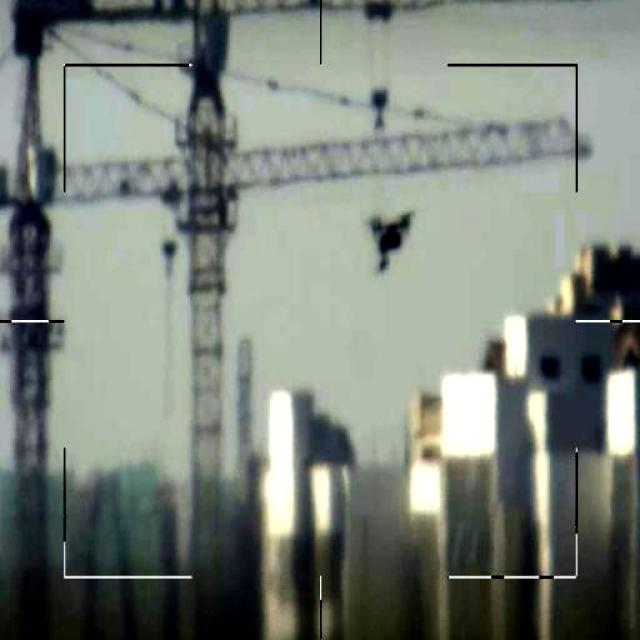bird: (364, 199, 414, 272)
